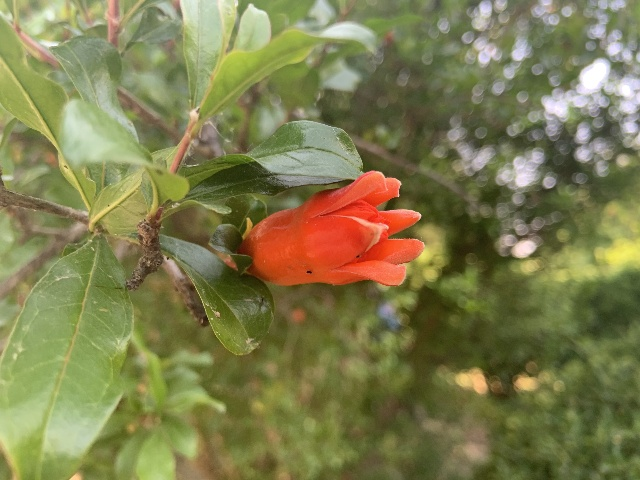flower: (236, 171, 424, 291)
